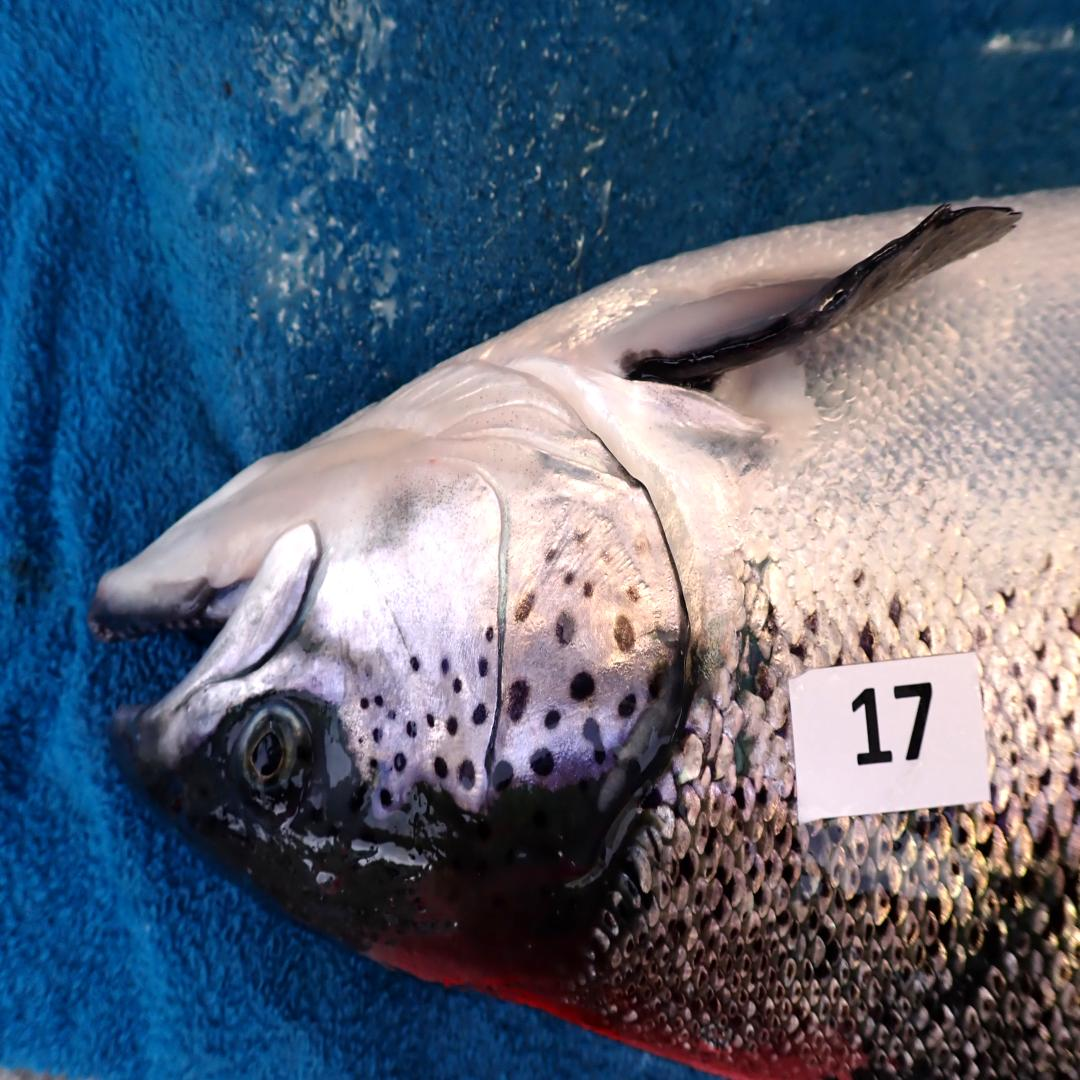roi: (316, 352, 688, 814)
